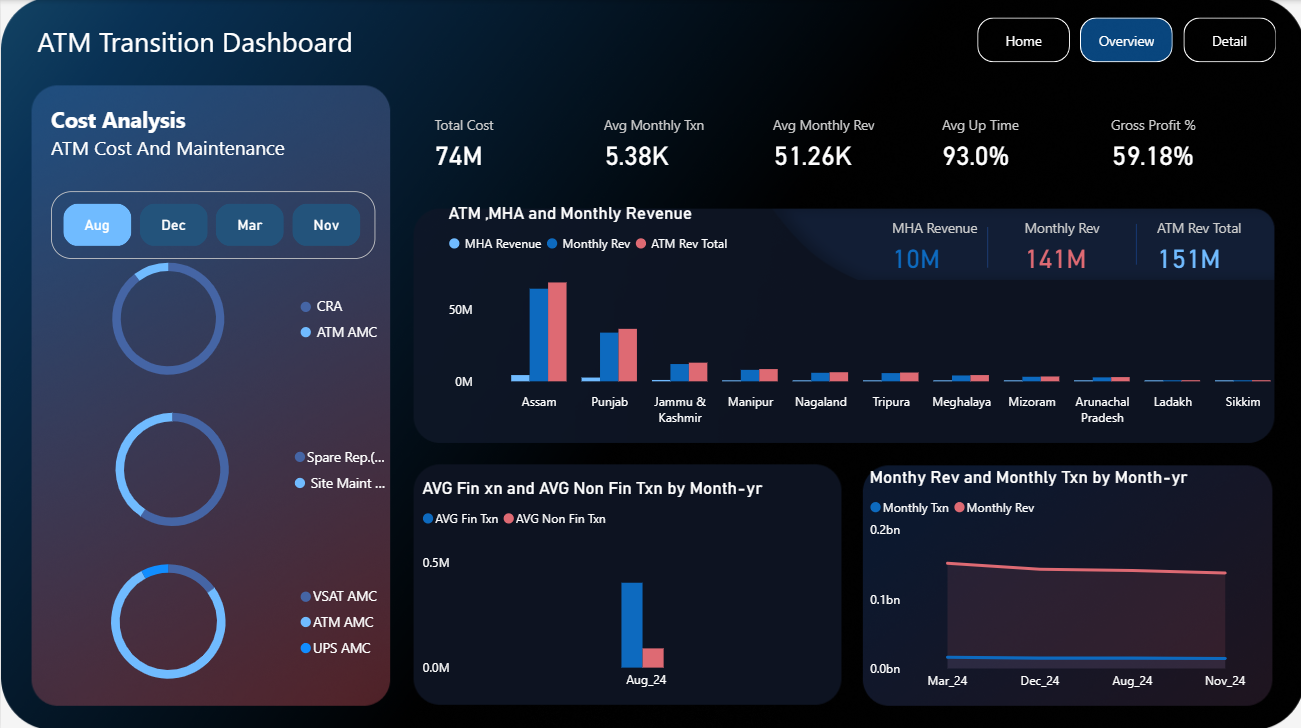

This screenshot's page, from the dashboard's own definition file:
{"tool":"powerbi","page":{"name":"Overview","canvas":[1280,720],"ordinal":1},"visuals":[{"type":"donutChart","fields":{"Y":["Sum(Dataset.CRA)","Sum(Dataset.ATM AMC)"]},"box":[31,238.9,352.5,147.5],"z":0},{"type":"donutChart","fields":{"Y":["Sum(Dataset.Spare Rep.(UPS))","Sum(Dataset.Site Maint (Non Asset))"]},"box":[44.2,386.4,351,149],"z":1000},{"type":"donutChart","fields":{"Y":["Sum(Dataset.VSAT AMC)","Sum(Dataset.ATM AMC)","Sum(Dataset.UPS AMC)"]},"box":[31,535.4,352.5,150.4],"z":2000},{"type":"clusteredColumnChart","title":" ATM ,MHA and Monthly Revenue","fields":{"Y":["Sum(Dataset.MHA Revenue)","Sum(Dataset.Monthly Rev)","Sum(Dataset.ATM Rev Total)"],"Category":["Dataset.STATE"]},"box":[434.5,198.9,845.5,226.7],"z":3000},{"type":"clusteredColumnChart","title":"AVG Fin xn and AVG Non Fin Txn by Month-yr","fields":{"Y":["Sum(Dataset.AVG Fin Txn)","Sum(Dataset.AVG Non Fin Txn)"],"Category":["Dataset.Month_yr"]},"box":[408.6,469,413,216.8],"z":4000},{"type":"areaChart","title":"Monthy Rev and Monthly Txn by Month-yr","fields":{"Category":["Dataset.Month_yr"],"Y":["Sum(Dataset.Monthly Txn)","Sum(Dataset.Monthly Rev)"]},"box":[848.1,457.2,395.3,228.6],"z":5000},{"type":"advancedSlicerVisual","fields":{"Values":["Dataset.Short_Month"]},"box":[48.7,187.3,318.6,66.4],"z":6000},{"type":"textbox","box":[44.2,95.9,339.2,79.6],"z":7000},{"type":"cardVisual","fields":{"Data":["Sum(Dataset. Total Cost  )","Avg(Dataset.Monthly Txn)","Avg(Dataset.Monthly Rev)","Avg(Dataset.Up Time)","Dataset.Gross Profit Percentage"]},"box":[408.6,91.4,834.8,95.9],"z":8000},{"type":"cardVisual","title":" title","fields":{"Data":["Sum(Dataset.MHA Revenue)","Sum(Dataset.Monthly Rev)","Sum(Dataset.ATM Rev Total)"]},"box":[857.2,197.5,395,81.9],"z":9000},{"type":"pageNavigator","box":[958.7,17.7,295,44.2],"z":10000},{"type":"textbox","box":[31,17.7,390.9,57.5],"z":11000}]}

Visuals, with their boxes in screenshot pixels (x1, y1, x2, y2), scaled from the page's 1280x720 canvas onto the 1301x728 screenshot:
donutChart - Sum(Dataset.CRA) x Sum(Dataset.ATM AMC): box=[32, 242, 390, 391]
donutChart - Sum(Dataset.Spare Rep.(UPS)) x Sum(Dataset.Site Maint (Non Asset)): box=[45, 391, 402, 541]
donutChart - Sum(Dataset.VSAT AMC) x Sum(Dataset.ATM AMC): box=[32, 541, 390, 693]
" ATM ,MHA and Monthly Revenue" clusteredColumnChart: box=[442, 201, 1300, 430]
"AVG Fin xn and AVG Non Fin Txn by Month-yr" clusteredColumnChart: box=[415, 474, 835, 693]
"Monthy Rev and Monthly Txn by Month-yr" areaChart: box=[862, 462, 1264, 693]
advancedSlicerVisual - Dataset.Short_Month: box=[49, 189, 373, 257]
textbox: box=[45, 97, 390, 177]
cardVisual - Sum(Dataset. Total Cost  ) x Avg(Dataset.Monthly Txn): box=[415, 92, 1264, 189]
" title" cardVisual: box=[871, 200, 1273, 283]
pageNavigator: box=[974, 18, 1274, 63]
textbox: box=[32, 18, 429, 76]
